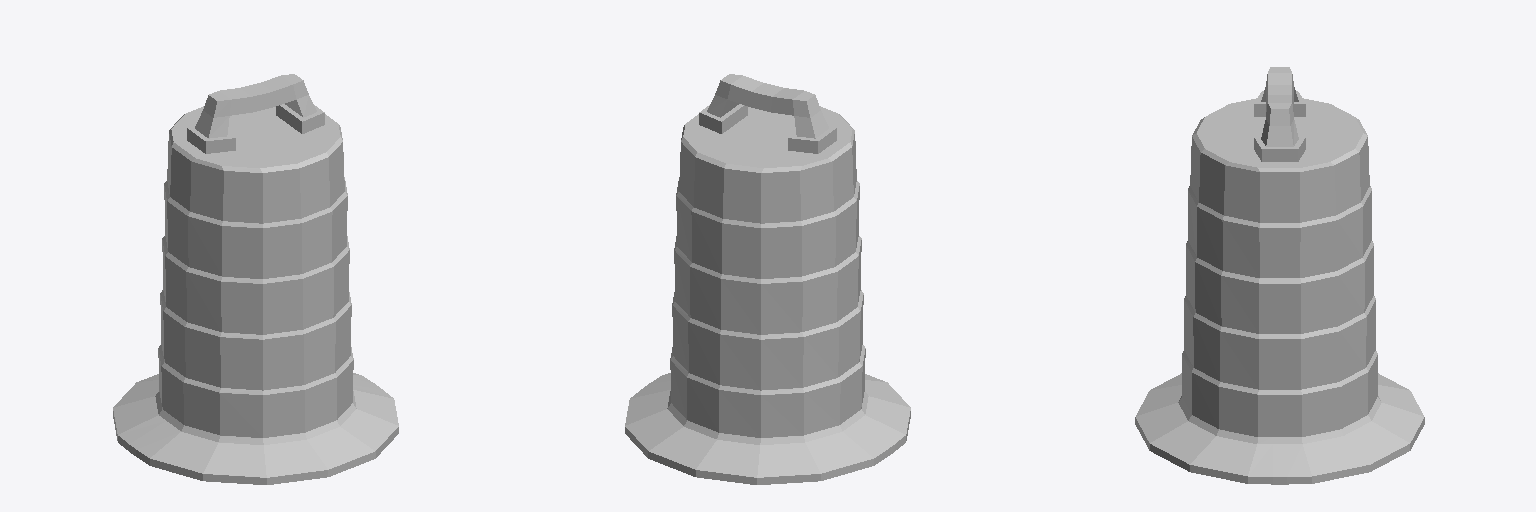
Rendered from traffic_barell_1.obj.
3 renders of one model, left to right at view 1: azimuth 30°, elevation 25°; view 2: azimuth 150°, elevation 25°; view 3: azimuth 270°, elevation 25°, orthographic.
Visible parts, largest first — view 1: traffic_barell_1_roads_material; view 2: traffic_barell_1_roads_material; view 3: traffic_barell_1_roads_material.
Part boxes in pixels (bbox=[...]): traffic_barell_1_roads_material: bbox=[113, 74, 398, 484]; traffic_barell_1_roads_material: bbox=[625, 74, 910, 484]; traffic_barell_1_roads_material: bbox=[1135, 67, 1424, 484].
Size of the model in its own units: 1.77 by 2.32 by 1.8.